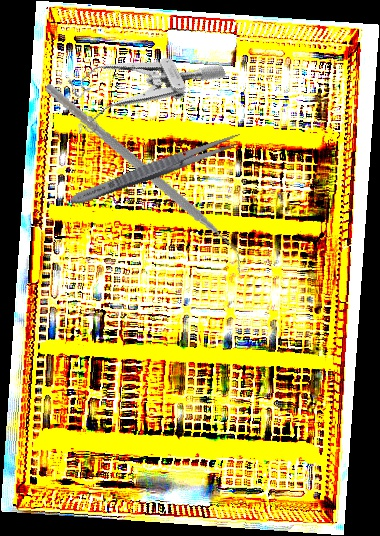Chopper: (21, 83, 265, 276)
Dressing Forceps: (67, 127, 245, 211)
Speculum: (54, 13, 228, 149)
